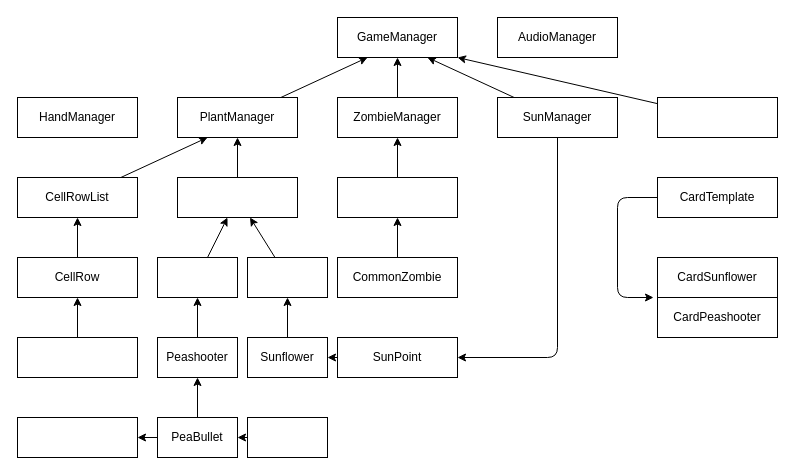
Some shapes in this 795 by 475 pixel diagram are drawn without their labels. Here are the shapes that lost their labels. From the top down, the box of each, then its label:
(656, 96, 778, 138): CardList
(176, 176, 298, 218): Plant
(336, 176, 458, 218): Zombie
(156, 256, 238, 298): AttackPlant
(246, 256, 328, 298): ProductPlant
(16, 336, 138, 378): Cell
(16, 416, 138, 458): LinerProjectileTemplate
(246, 416, 328, 458): PeaBroken
